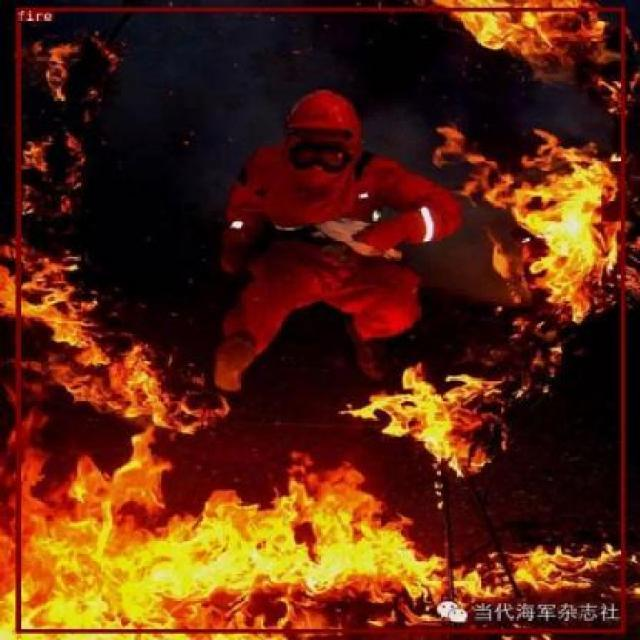Fire: (14, 6, 624, 632)
